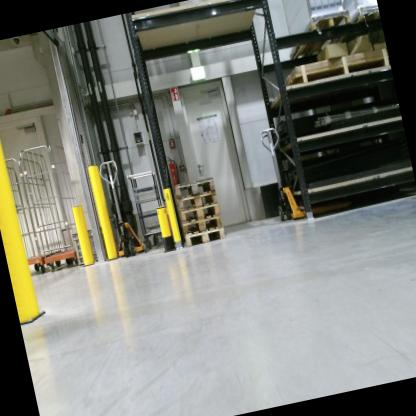pallet: (272, 2, 362, 69), (343, 1, 383, 38), (167, 175, 216, 200), (171, 191, 219, 212), (183, 228, 228, 250), (179, 203, 223, 225), (181, 216, 225, 237)
pallet_truck: (256, 117, 324, 227), (91, 148, 153, 262)
